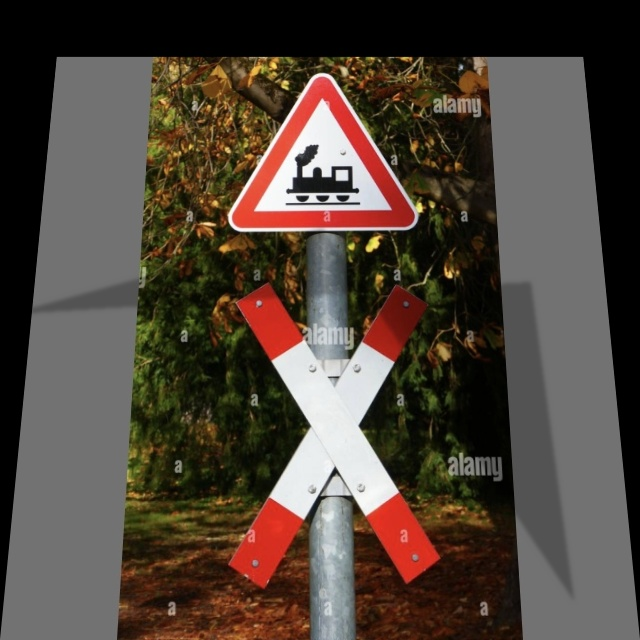Unguarded_Level_Crossing: (244, 92, 418, 232)
